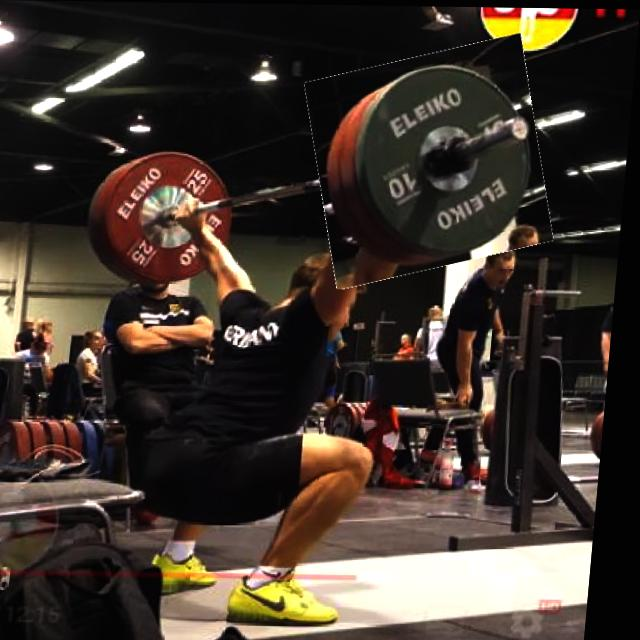barbell: (305, 41, 562, 280)
